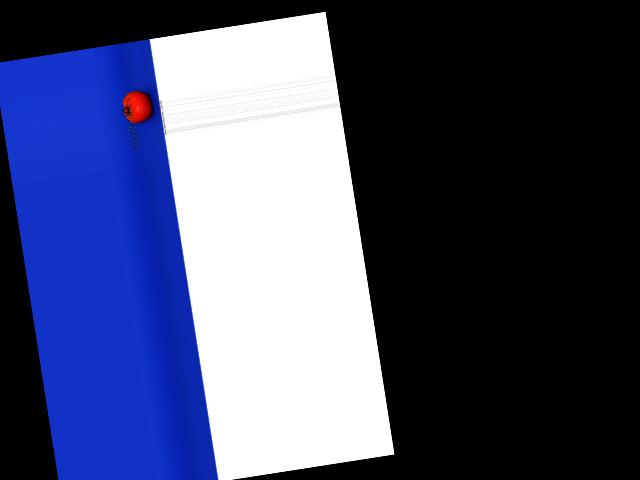tomato: (120, 87, 154, 124)
